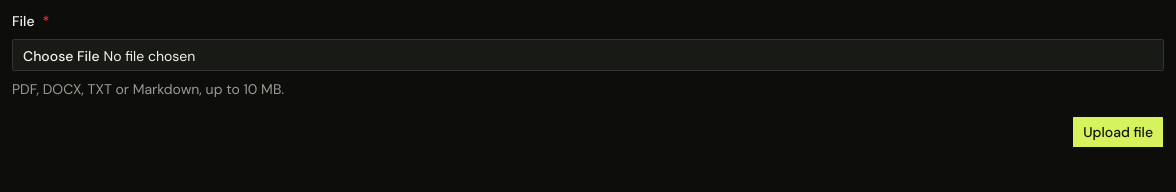
Scenario: FileIngestForm › rejects files over 10 MB
The width and height of the screenshot is (1176, 192).
Earlier steps of the test are not shown.
Click the button "Upload file".
click(1118, 132)  # box x1=1072 y1=116 x2=1164 y2=148
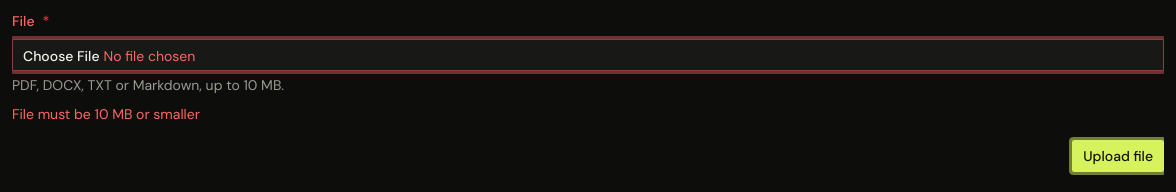
Result: the text "File must be 10 MB or smaller" is shown at x1=12 y1=105 x2=200 y2=123
